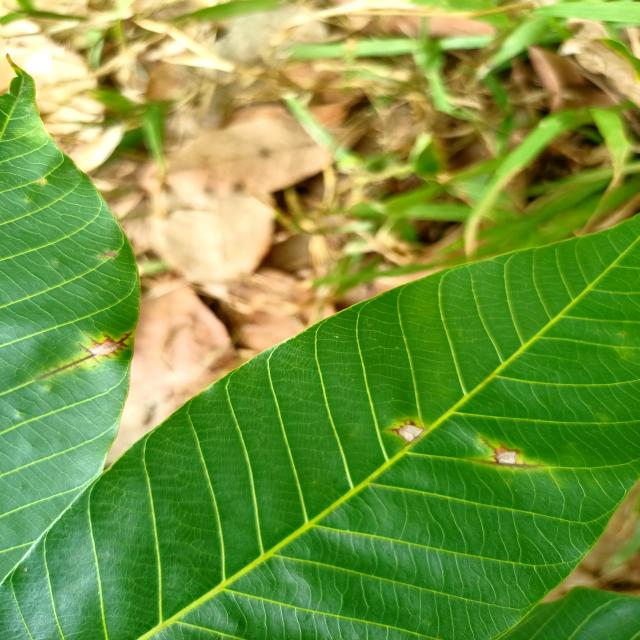Corynespora: (31, 332, 132, 382), (472, 458, 539, 470), (482, 437, 508, 457)
Leaf-Blight: (398, 425, 424, 441), (497, 451, 518, 464)
